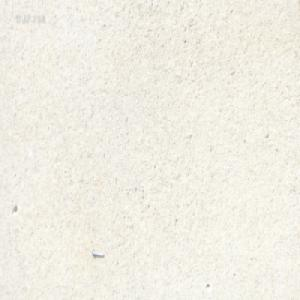Nail: (90, 249, 105, 258)
